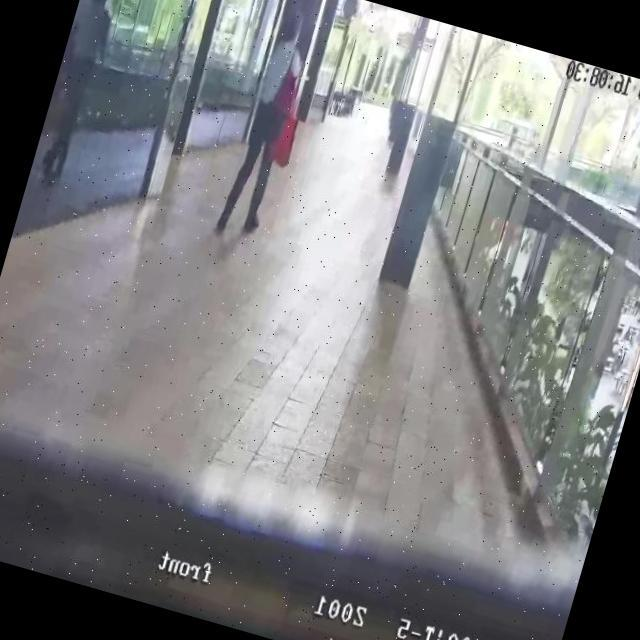person: (212, 5, 320, 244), (32, 0, 124, 186)
